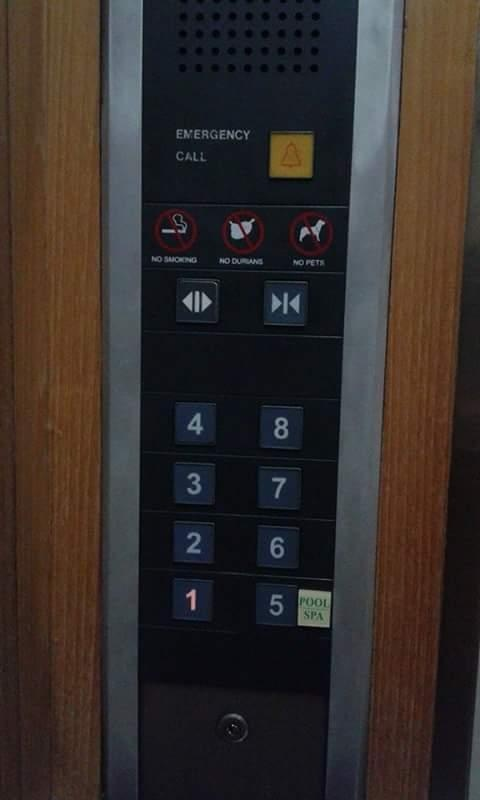1: (170, 577, 214, 623)
2: (170, 520, 216, 566)
3: (171, 461, 216, 506)
4: (172, 400, 216, 446)
5: (254, 581, 298, 627)
6: (254, 523, 301, 570)
7: (254, 464, 303, 511)
8: (258, 405, 304, 453)
alarm: (267, 130, 316, 181)
close: (262, 279, 309, 328)
keyhole: (215, 712, 248, 744)
open: (174, 277, 222, 324)
